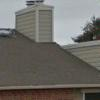Chimney: (15, 6, 67, 47)
